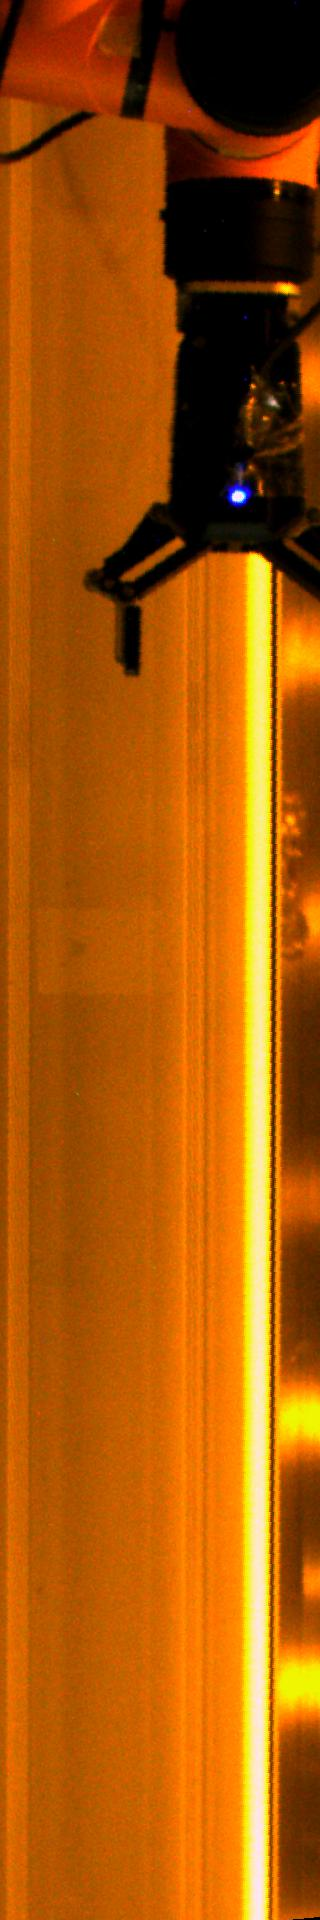keyPoint_1: (224, 482, 254, 512)
